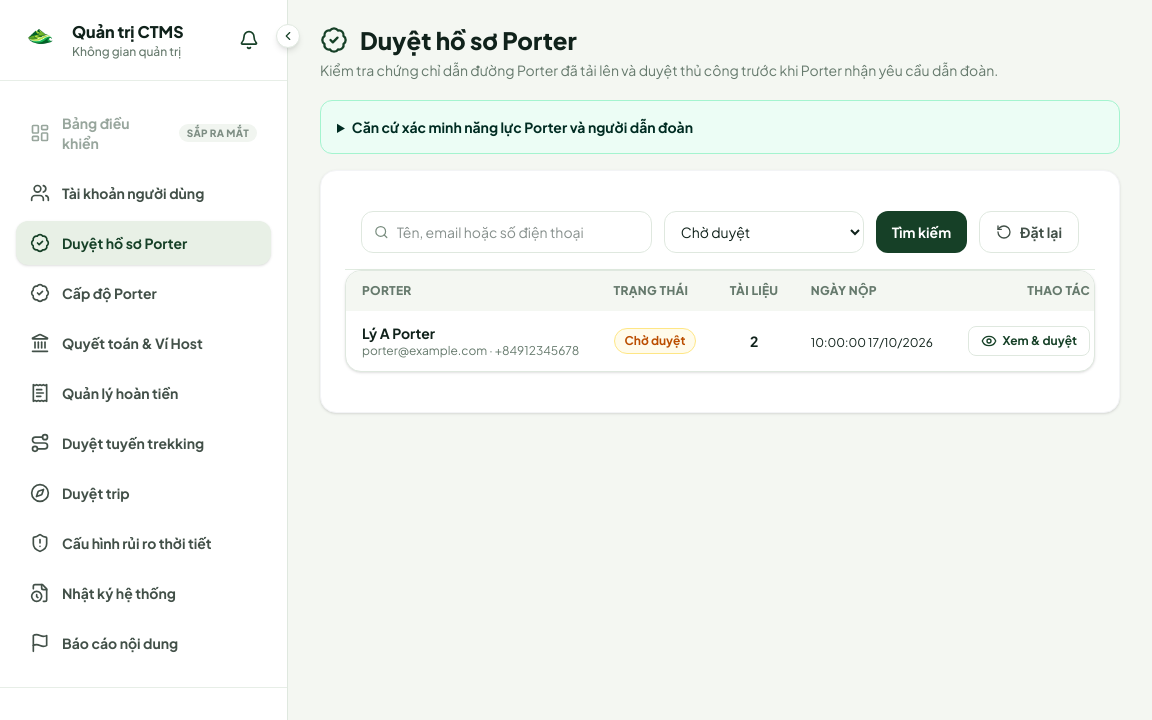
Test: AdminPorterVerificationsPage › requires a reason to reject
This screenshot has width=1152, height=720.
Click the button "Xem & duyệt": click(1029, 341) [968,326,1090,356]
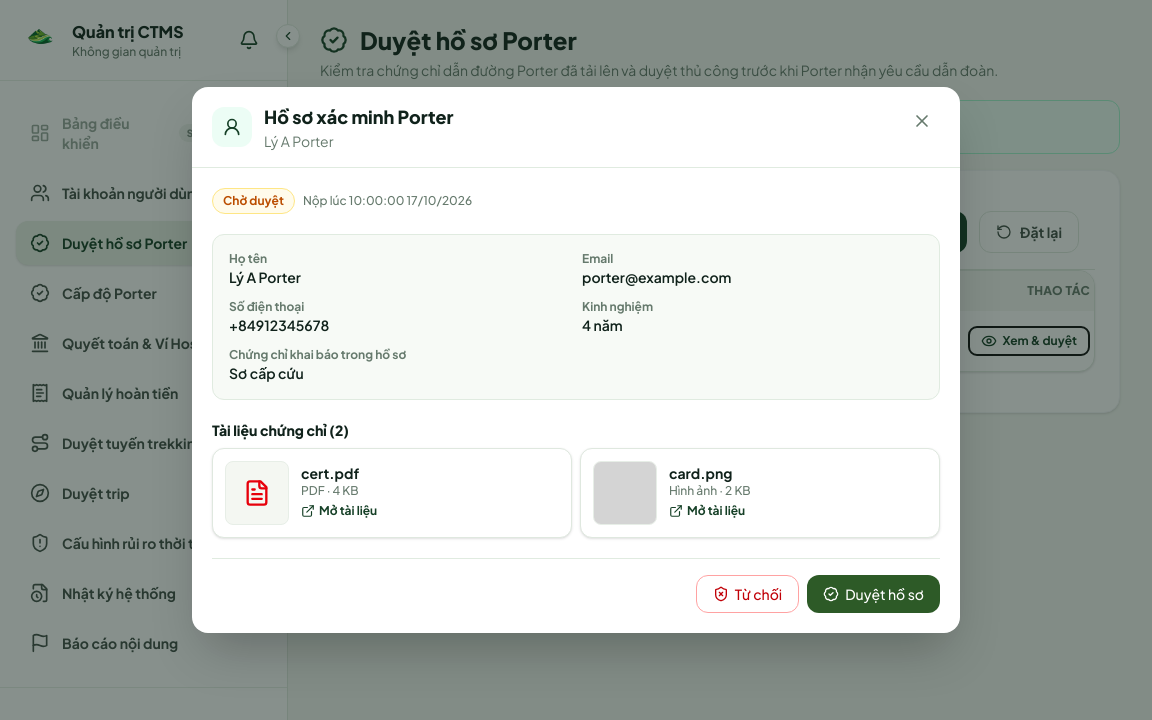
Click the button "Từ chối": click(748, 594) [696,575,799,613]
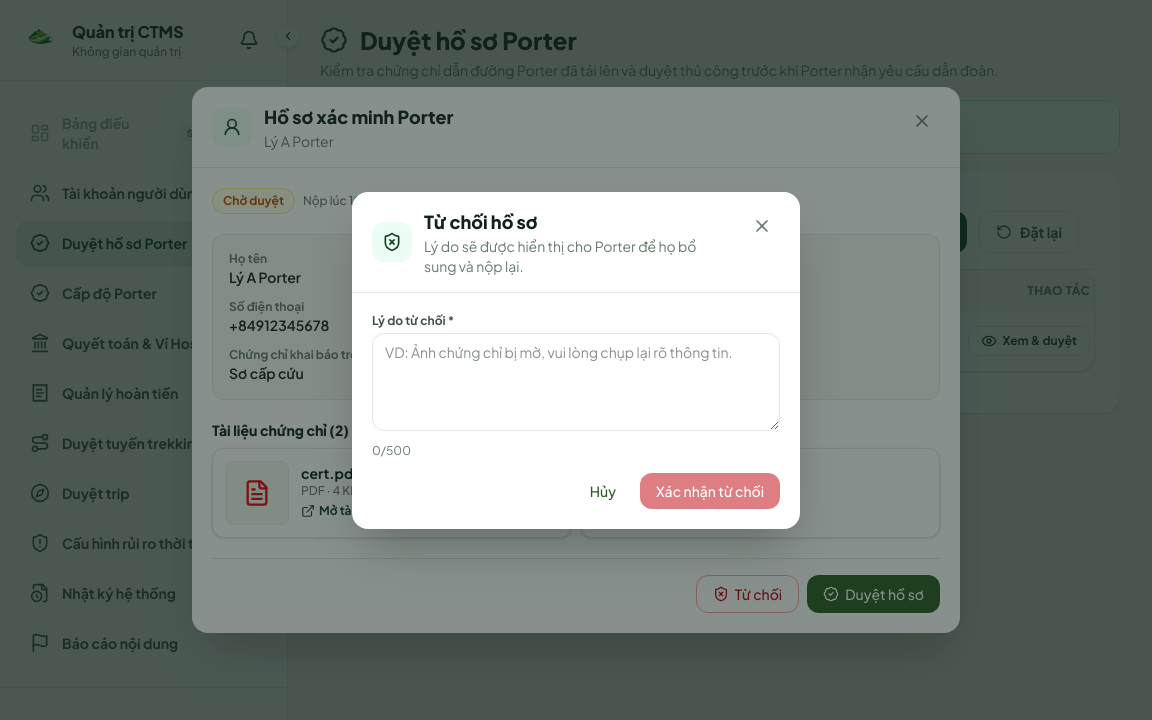
Check: the button "Xác nhận từ chối" is disabled, box [640,472,780,508]
In the text box with placeholder "VD: Ảnh chứng chỉ bị mờ, vui lòng chụp lại rõ thông tin.": (576, 382) [372,332,780,430], type "  Ảnh mờ  "
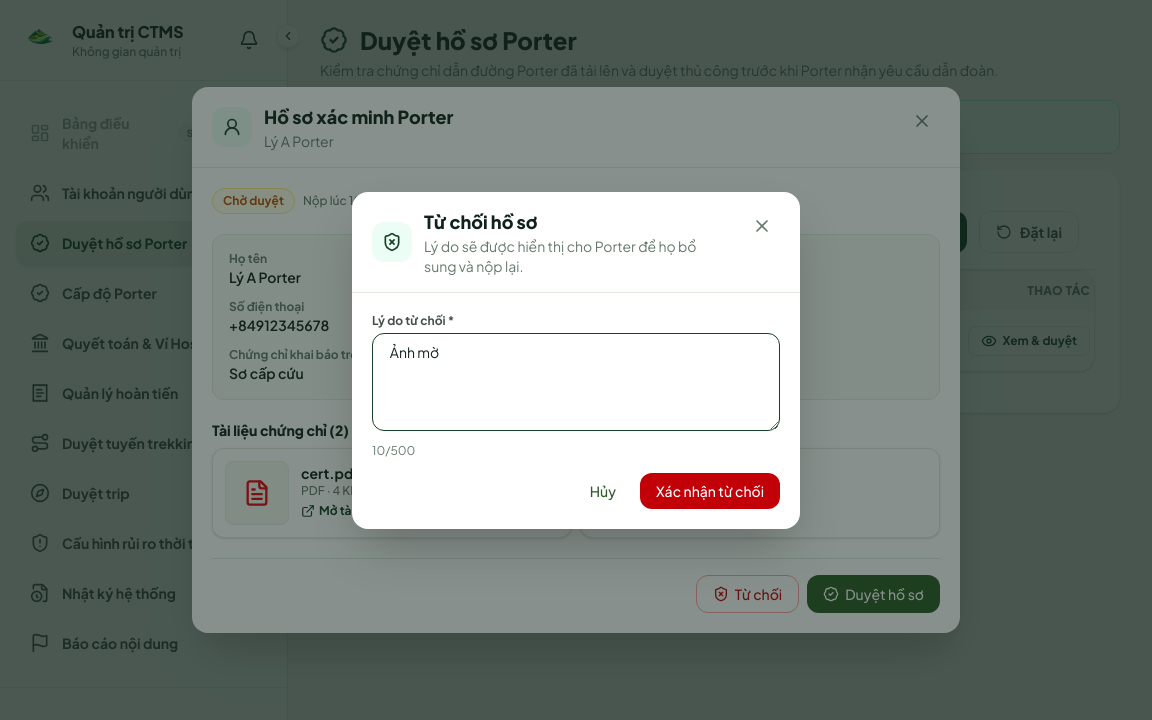
Click the button "Xác nhận từ chối": click(710, 490) [640,472,780,508]
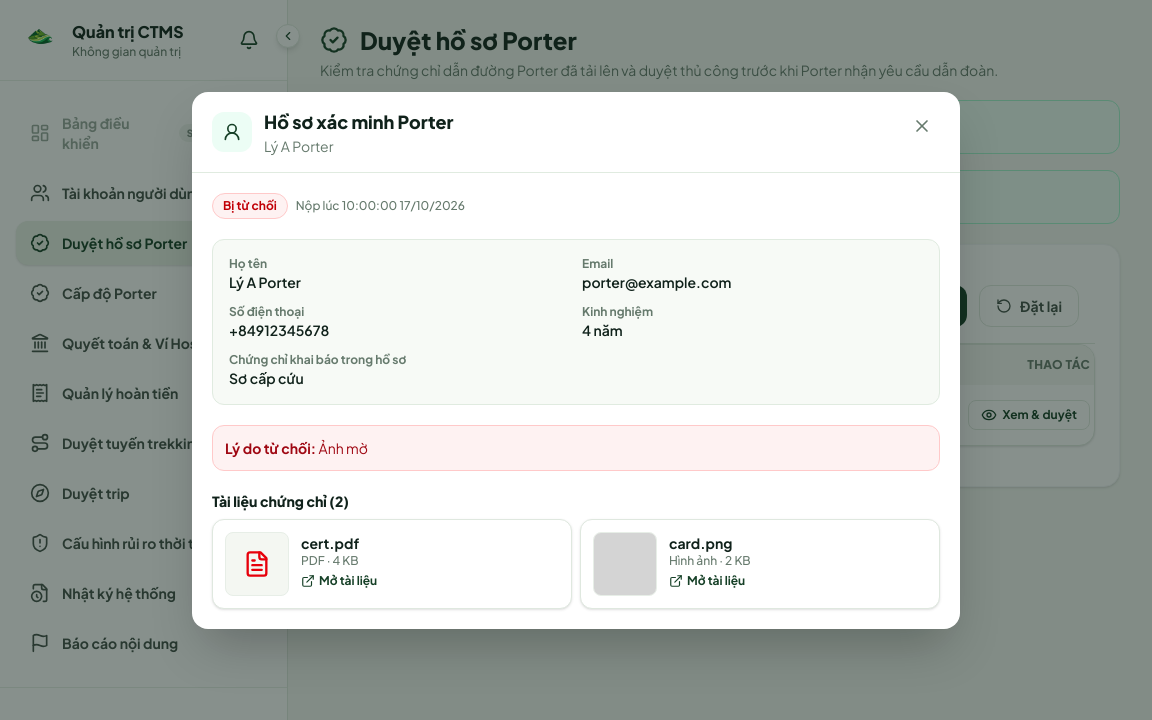
Check: the text "Đã từ chối hồ sơ của Lý A Porter." is shown, box [320,170,1120,224]
